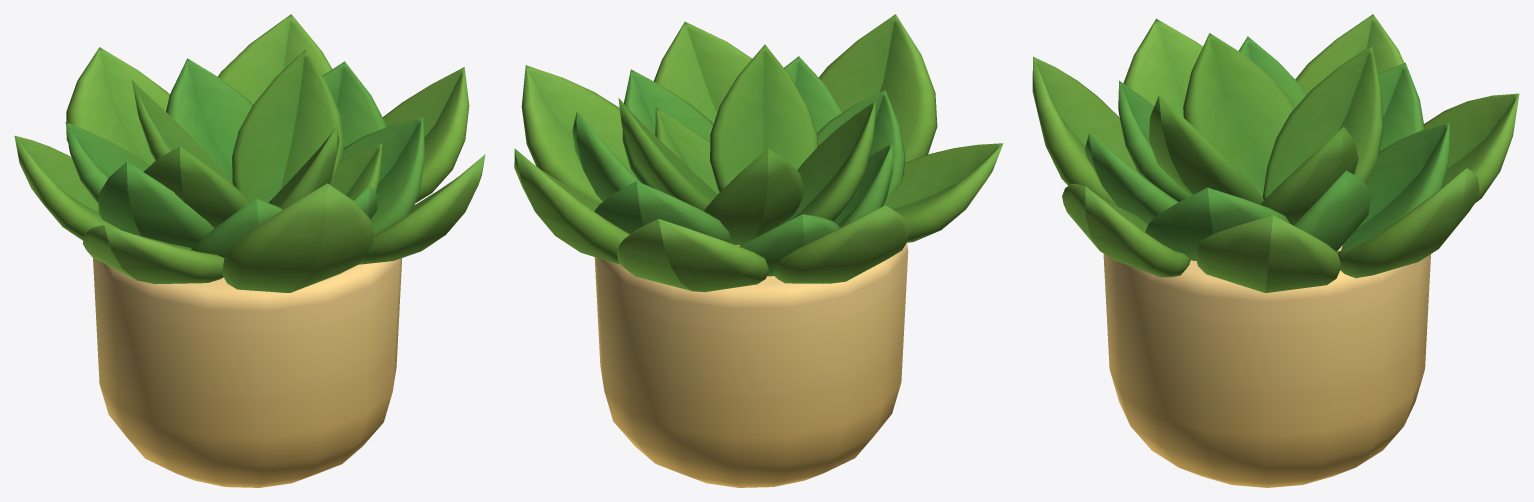
The model's file is Plants_02.glb.
3 views of the same model, side by side, from view 1: azimuth 30°, elevation 25°; view 2: azimuth 150°, elevation 25°; view 3: azimuth 270°, elevation 25° (orthographic). The views are drawn at different scales.
Parts seen in each view (by area): view 1: Plants_02; view 2: Plants_02; view 3: Plants_02.
Part boxes in pixels (left/top/right/bottom): Plants_02: left=14, top=14, right=485, bottom=487; Plants_02: left=514, top=14, right=1003, bottom=487; Plants_02: left=1032, top=14, right=1519, bottom=487.
Size of the model in its own units: 0.2265 by 0.1891 by 0.2181.
1 material, 1 textured.
